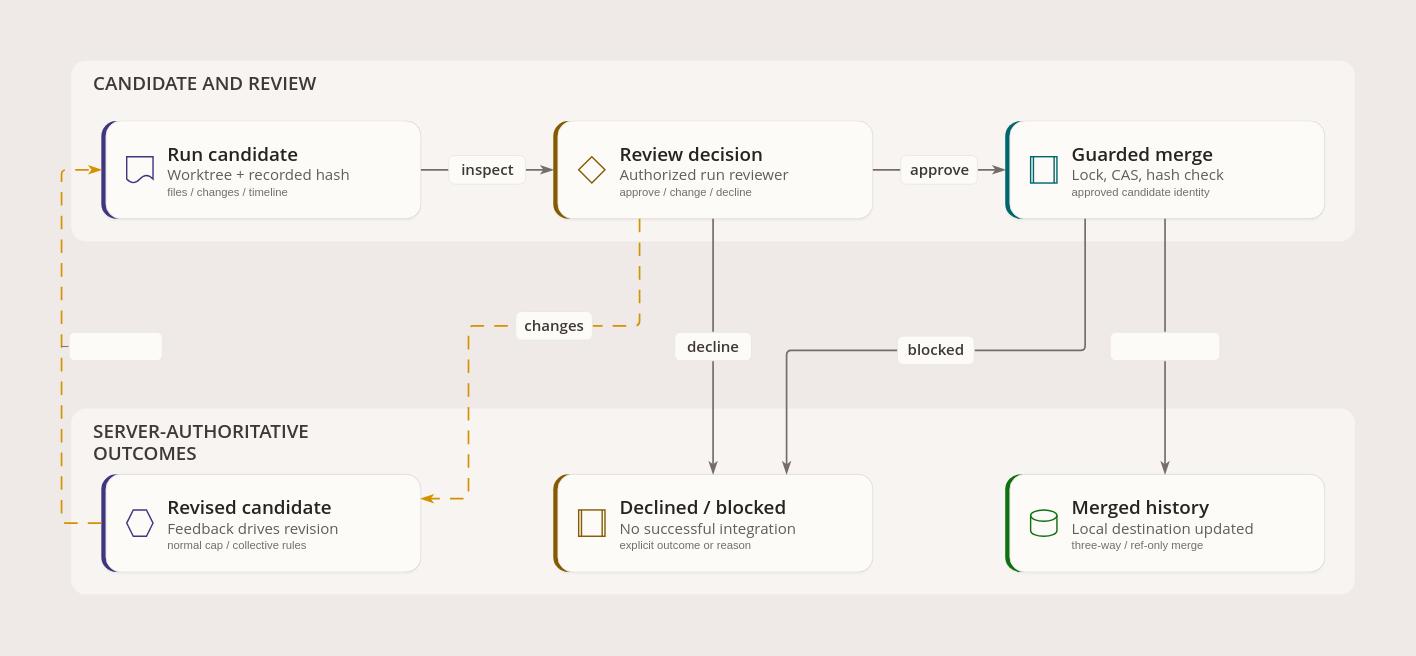
This 1416x656 diagram has some shape labels left out. Here are the shapes that lost their labels. From the top down, the centre of each, then its label:
At point (115, 346): "re-review".
At point (1164, 346): "guards pass".
